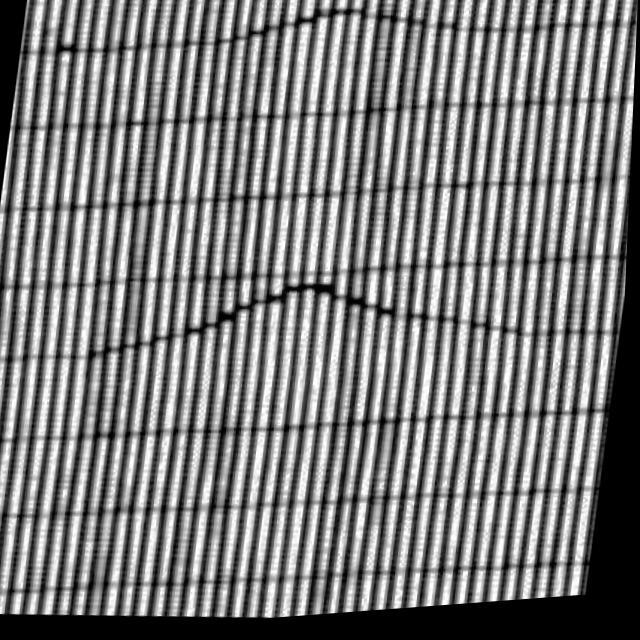Stitch: (88, 230, 538, 431)
